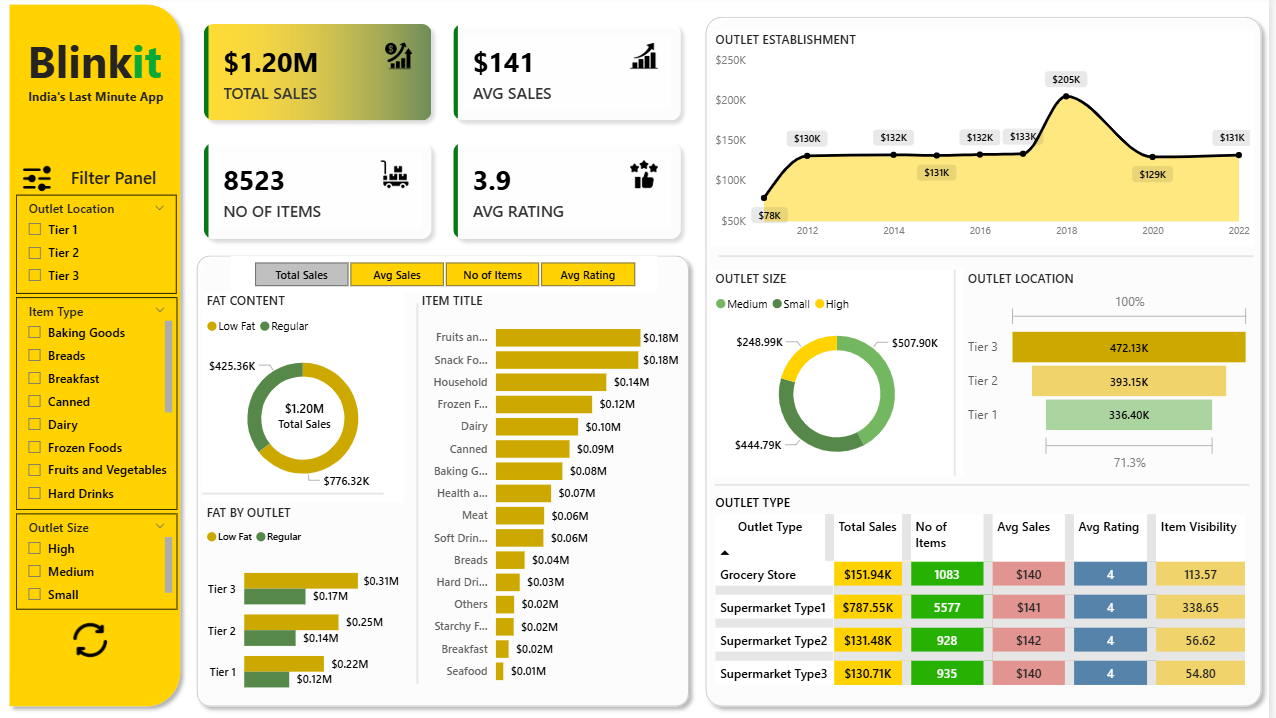

What the dashboard file says about the page in this screenshot:
{"tool":"powerbi","page":{"name":"Page 1","canvas":[1400,800],"ordinal":0},"visuals":[{"type":"shape","box":[16.4,0,204.5,783.9],"z":0},{"type":"textbox","box":[29,33.2,179.7,84.3],"z":1000},{"type":"textbox","box":[36,95,168.6,30],"z":2000},{"type":"cardVisual","fields":{"Data":["BlinkIT Grocery Data.Total Sales","BlinkIT Grocery Data.Avg Sales","BlinkIT Grocery Data.No of Items","BlinkIT Grocery Data.Avg Rating"]},"box":[221.1,13.8,554.3,269.5],"z":3000},{"type":"shape","box":[220.9,274,554.9,509.9],"z":4000},{"type":"donutChart","title":"FAT CONTENT","fields":{"Y":["BlinkIT Grocery Data.Total Sales"],"Category":["BlinkIT Grocery Data.Item Fat Content"]},"box":[236.4,323.4,219.8,229.4],"z":5000},{"type":"slicer","fields":{"Values":["Metrics.Metrics"]},"box":[266.8,283.3,464.4,40.1],"z":6000},{"type":"cardVisual","fields":{"Data":["BlinkIT Grocery Data.Total Sales"]},"box":[284.7,425.7,125.8,65],"z":7000},{"type":"clusteredBarChart","title":"FAT BY OUTLET","fields":{"Y":["BlinkIT Grocery Data.Total Sales"],"Category":["BlinkIT Grocery Data.Outlet Location Type"],"Series":["BlinkIT Grocery Data.Item Fat Content"]},"box":[236.4,552.9,219.8,225.3],"z":8000},{"type":"shape","box":[236.4,533.5,197.7,19.4],"z":9000},{"type":"shape","box":[456.1,335.9,27.6,414.7],"z":10000},{"type":"barChart","title":"ITEM TITLE","fields":{"Y":["BlinkIT Grocery Data.Total Sales"],"Category":["BlinkIT Grocery Data.Item Type"]},"box":[469.9,323.4,290.3,438.2],"z":11000},{"type":"shape","box":[775.7,13.6,624.4,770.3],"z":12000},{"type":"lineChart","title":"OUTLET ESTABLISHMENT","fields":{"Y":["BlinkIT Grocery Data.Total Sales"],"Category":["BlinkIT Grocery Data.Outlet Establishment Year"]},"box":[790.6,38.7,593,235],"z":13000},{"type":"shape","box":[798.9,268.1,583.3,30.4],"z":14000},{"type":"donutChart","title":"OUTLET SIZE","fields":{"Y":["BlinkIT Grocery Data.Total Sales"],"Category":["BlinkIT Grocery Data.Outlet Size"]},"box":[790.6,298.6,275.1,225.3],"z":15000},{"type":"shape","box":[1047,298.6,19.1,225],"z":16000},{"type":"funnel","title":"OUTLET LOCATION","fields":{"Y":["Sum(BlinkIT Grocery Data.Sales)"],"Category":["BlinkIT Grocery Data.Outlet Location Type"]},"box":[1065.7,298.6,317.9,225.3],"z":17000},{"type":"shape","box":[794.8,523.8,583.3,19.4],"z":18000},{"type":"pivotTable","title":"OUTLET TYPE","fields":{"Values":["BlinkIT Grocery Data.Total Sales","BlinkIT Grocery Data.No of Items","BlinkIT Grocery Data.Avg Sales","BlinkIT Grocery Data.Avg Rating","Sum(BlinkIT Grocery Data.Item Visibility)"],"Rows":["BlinkIT Grocery Data.Outlet Type"]},"box":[790.6,543.2,591.6,218.4],"z":19000},{"type":"slicer","fields":{"Values":["BlinkIT Grocery Data.Outlet Location Type"]},"box":[32.9,217.1,175.5,107.8],"z":20000},{"type":"slicer","fields":{"Values":["BlinkIT Grocery Data.Outlet Size"]},"box":[33,565,175.9,105],"z":21000},{"type":"slicer","fields":{"Values":["BlinkIT Grocery Data.Item Type"]},"box":[32.7,328.6,175.9,231.8],"z":22000},{"type":"textbox","box":[77.1,179.8,123,41.5],"z":23000},{"type":"actionButton","box":[88.5,678.6,49.8,47],"z":24000},{"type":"image","box":[32.9,182.5,45.6,33.2],"z":25000}]}

Visuals, with their boxes in screenshot pixels (x1, y1, x2, y2), scaled from the page's 1400x800 canvas onto the 1276x718 screenshot:
shape: bbox(15, 0, 201, 704)
textbox: bbox(26, 30, 190, 105)
textbox: bbox(33, 85, 186, 112)
cardVisual - BlinkIT Grocery Data.Total Sales x BlinkIT Grocery Data.Avg Sales: bbox(202, 12, 707, 254)
shape: bbox(201, 246, 707, 704)
"FAT CONTENT" donutChart: bbox(215, 290, 416, 496)
slicer - Metrics.Metrics: bbox(243, 254, 666, 290)
cardVisual - BlinkIT Grocery Data.Total Sales: bbox(259, 382, 374, 440)
"FAT BY OUTLET" clusteredBarChart: bbox(215, 496, 416, 698)
shape: bbox(215, 479, 396, 496)
shape: bbox(416, 301, 441, 674)
"ITEM TITLE" barChart: bbox(428, 290, 693, 684)
shape: bbox(707, 12, 1275, 704)
"OUTLET ESTABLISHMENT" lineChart: bbox(721, 35, 1261, 246)
shape: bbox(728, 241, 1260, 268)
"OUTLET SIZE" donutChart: bbox(721, 268, 971, 470)
shape: bbox(954, 268, 972, 470)
"OUTLET LOCATION" funnel: bbox(971, 268, 1261, 470)
shape: bbox(724, 470, 1256, 488)
"OUTLET TYPE" pivotTable: bbox(721, 488, 1260, 684)
slicer - BlinkIT Grocery Data.Outlet Location Type: bbox(30, 195, 190, 292)
slicer - BlinkIT Grocery Data.Outlet Size: bbox(30, 507, 190, 601)
slicer - BlinkIT Grocery Data.Item Type: bbox(30, 295, 190, 503)
textbox: bbox(70, 161, 182, 199)
actionButton: bbox(81, 609, 126, 651)
image: bbox(30, 164, 72, 194)
